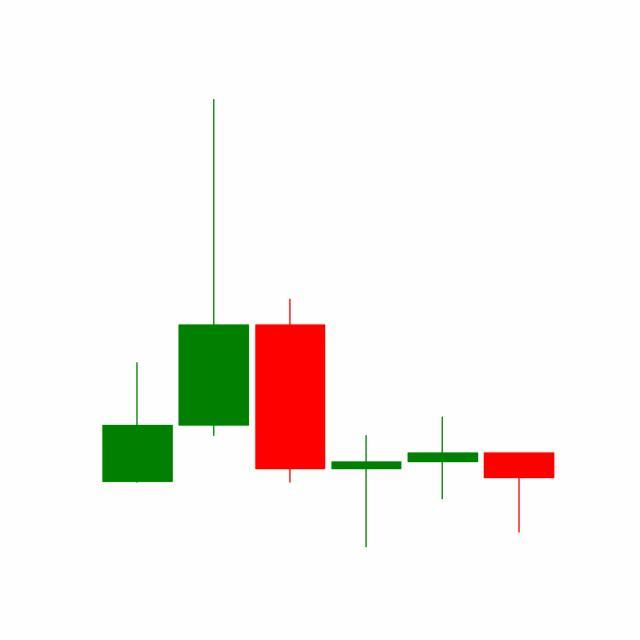Spinning Top: (404, 416, 482, 501)
